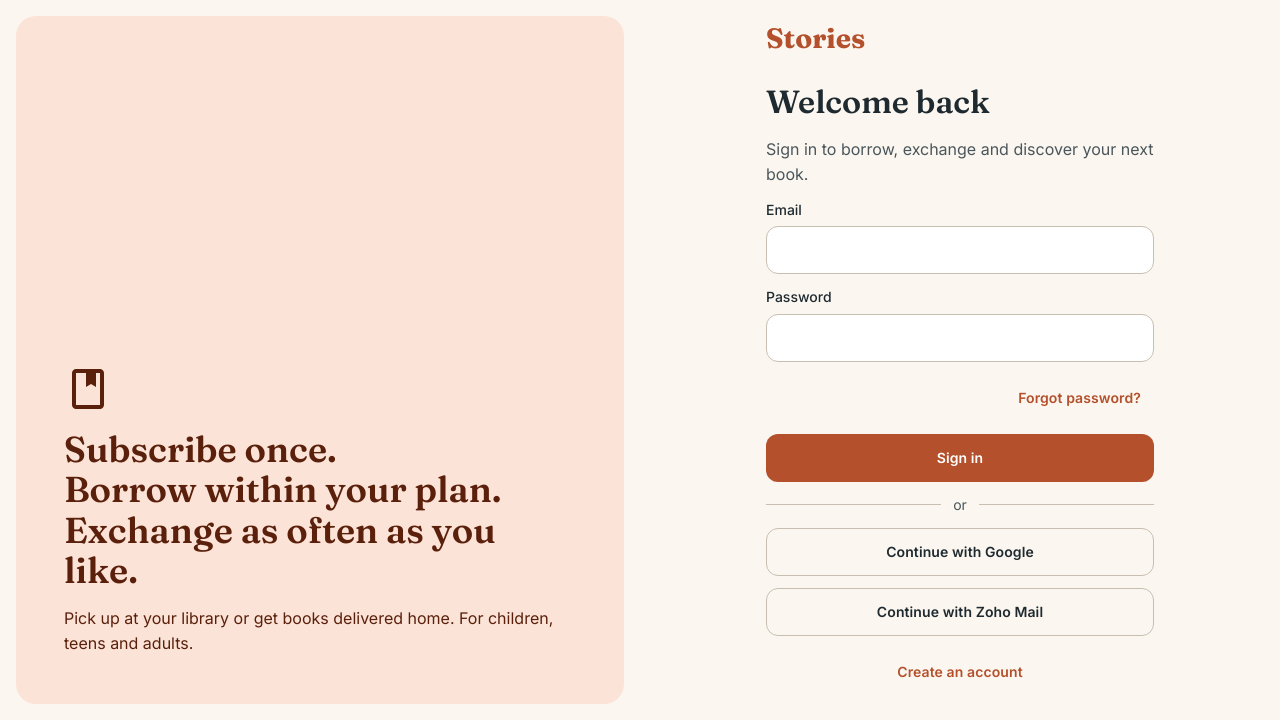
Test case: Continue with Zoho Mail › is not offered while creating an account
Step 1. Click the button "Create an account" → [960, 672], box [766, 648, 1154, 696]
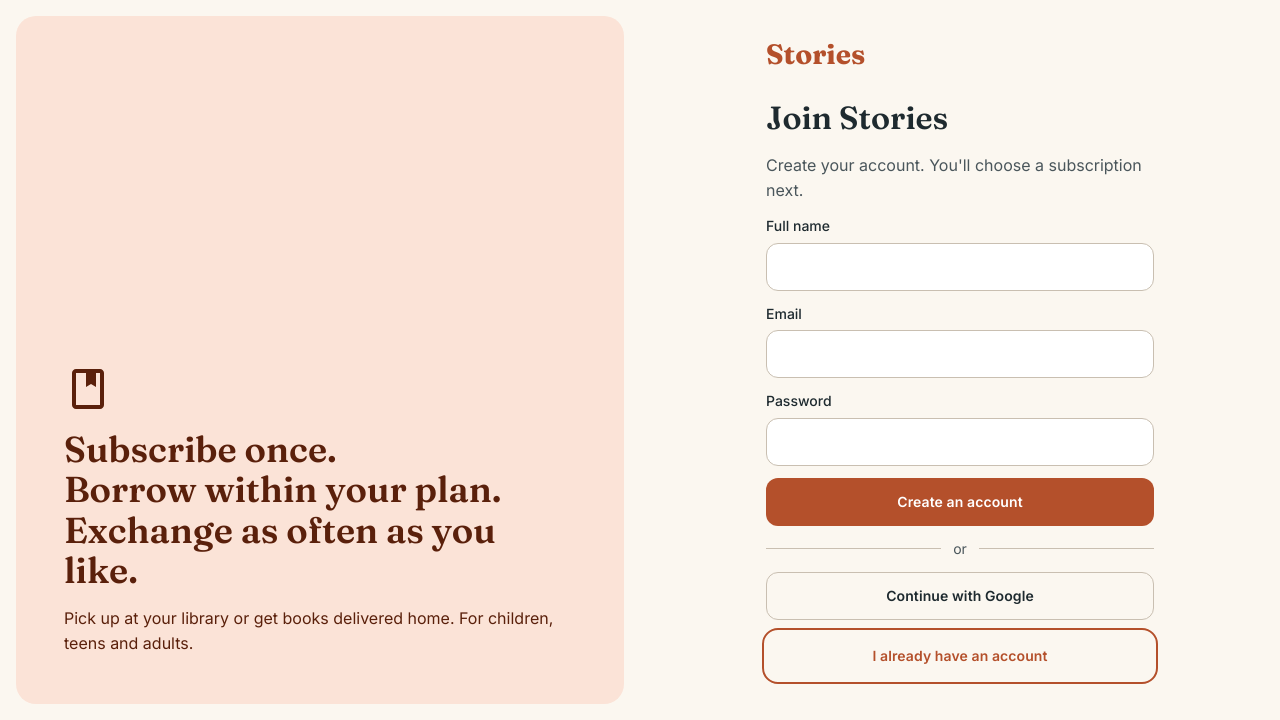
Result: the button "Continue with Zoho Mail" is gone
